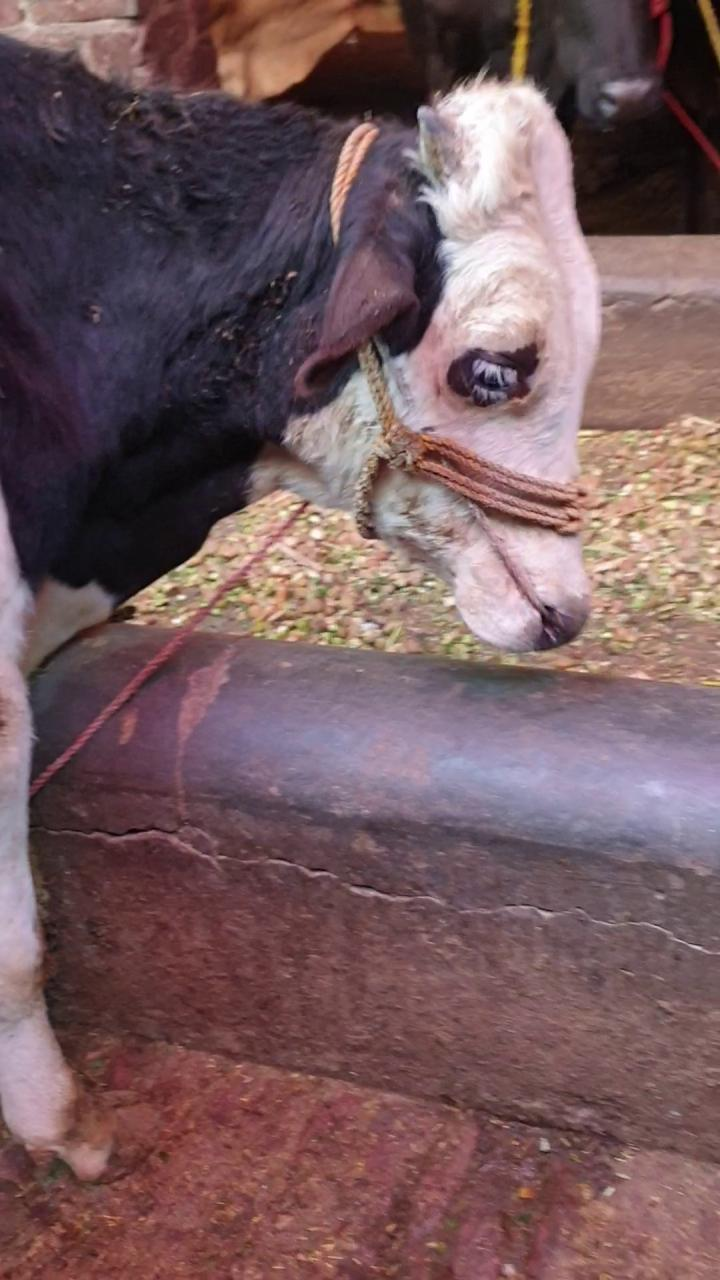cows: (327, 62, 663, 688)
